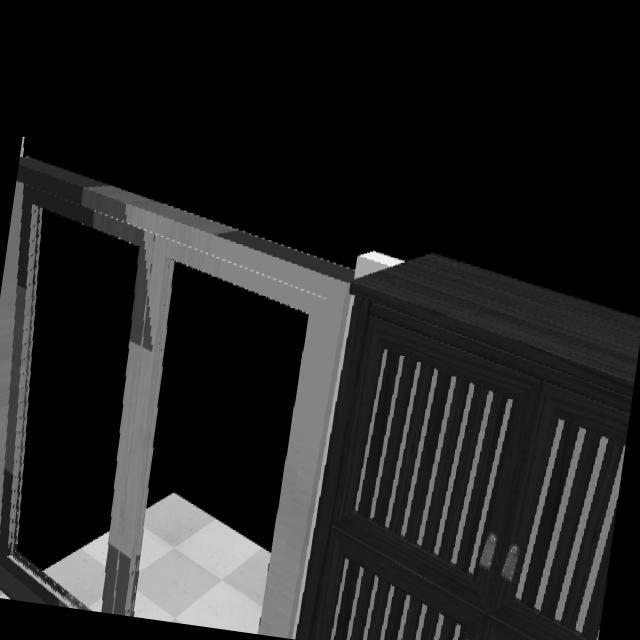wardrobe: (293, 254, 640, 640)
